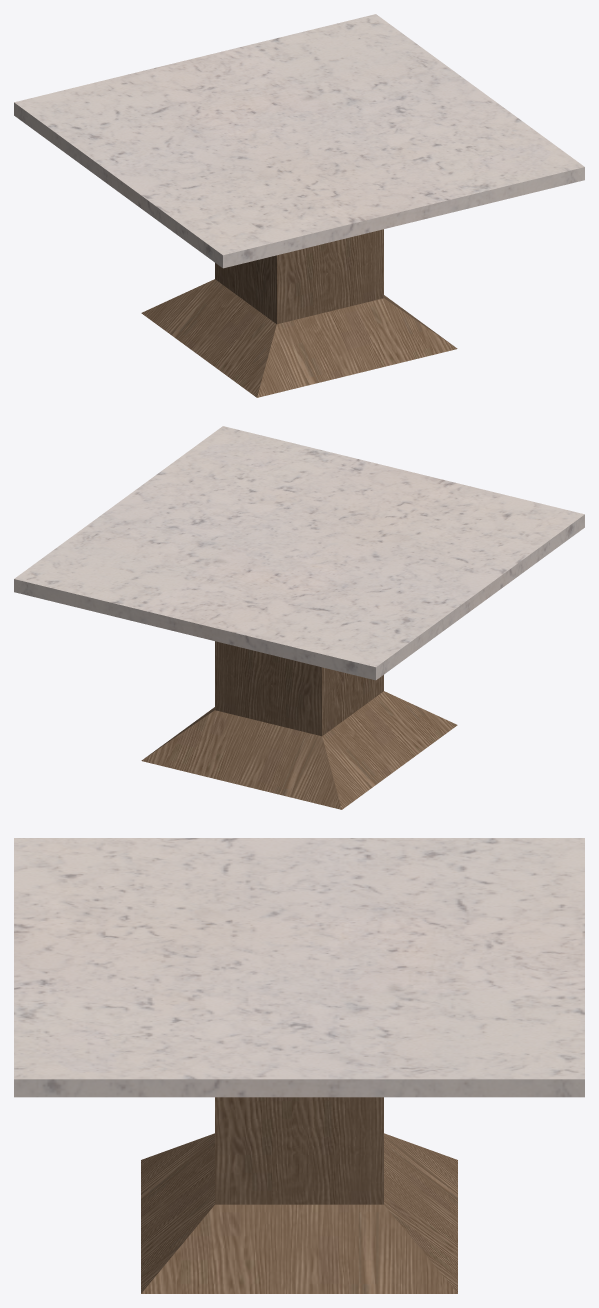
The model's file is Table_04.glb.
3 views of the same model, one above another, from view 1: azimuth 30°, elevation 25°; view 2: azimuth 150°, elevation 25°; view 3: azimuth 270°, elevation 25° (orthographic). The views are drawn at different scales.
Visible parts, largest first — view 1: Table_04; view 2: Table_04; view 3: Table_04.
Part boxes in pixels (box(x1,y1,x2,y2)): Table_04: box(14, 14, 584, 397); Table_04: box(14, 426, 584, 809); Table_04: box(14, 838, 584, 1293).
Bounding box in the file's own units: 1.6 × 0.8308 × 1.6.
2 materials, 2 textured.
